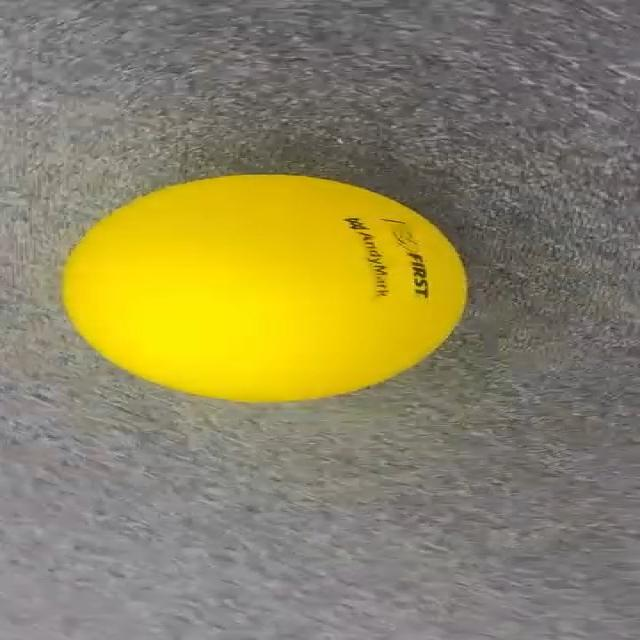Fuels: (66, 175, 462, 400)
